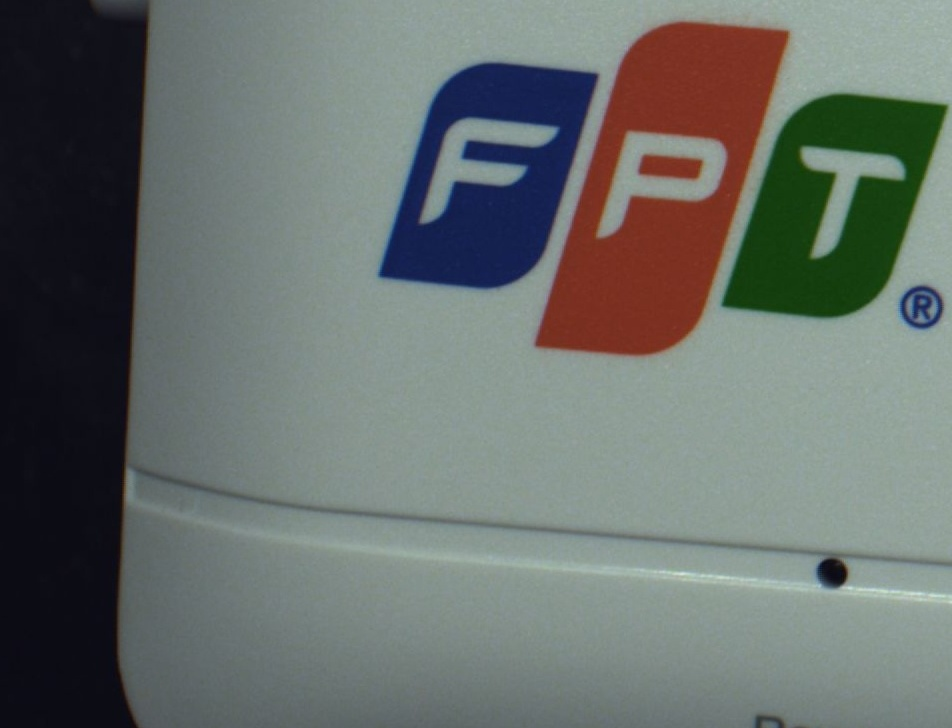BR_FPT: (374, 19, 949, 358)
